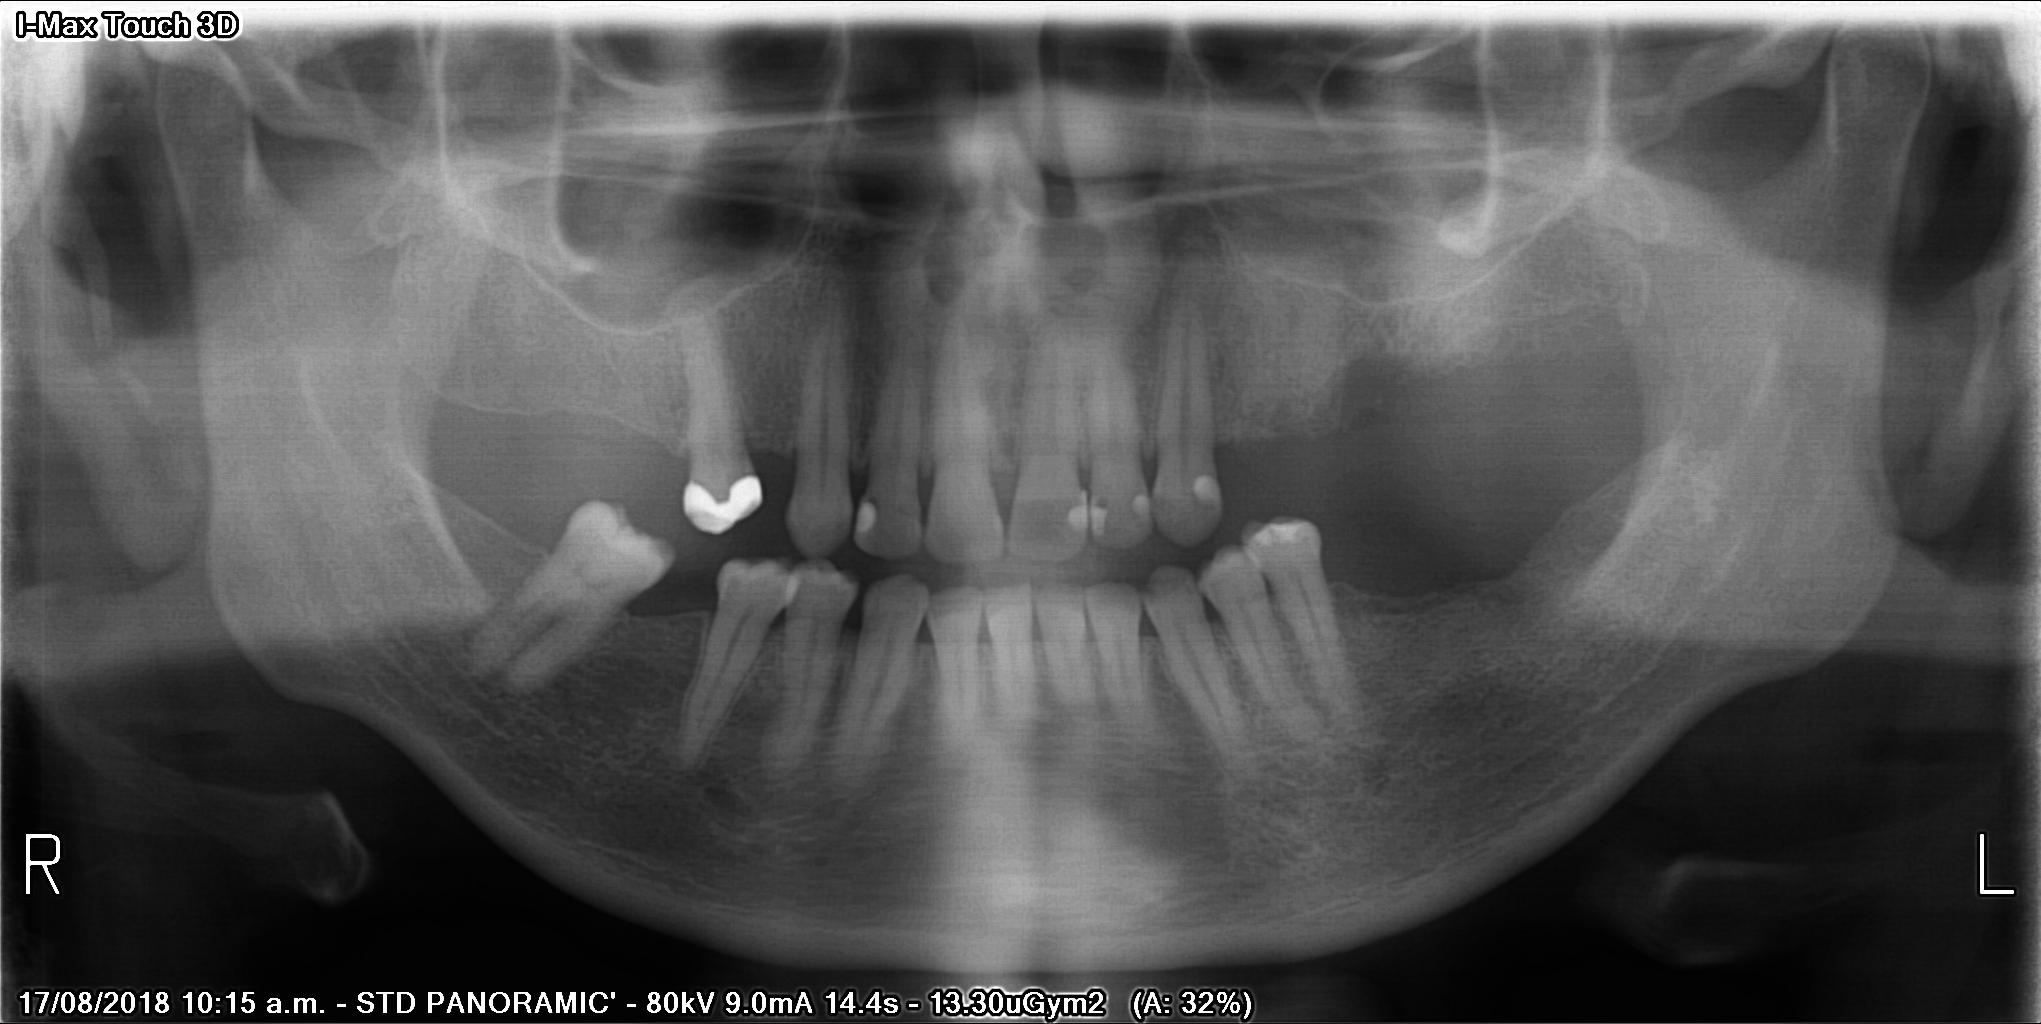Çürük: (675, 465, 770, 537), (1250, 516, 1311, 550), (1064, 490, 1090, 541), (1194, 470, 1224, 513), (853, 498, 881, 539), (1126, 486, 1153, 529), (1090, 491, 1110, 539)
Çürük Bölgesi: (1139, 585, 1161, 606)
